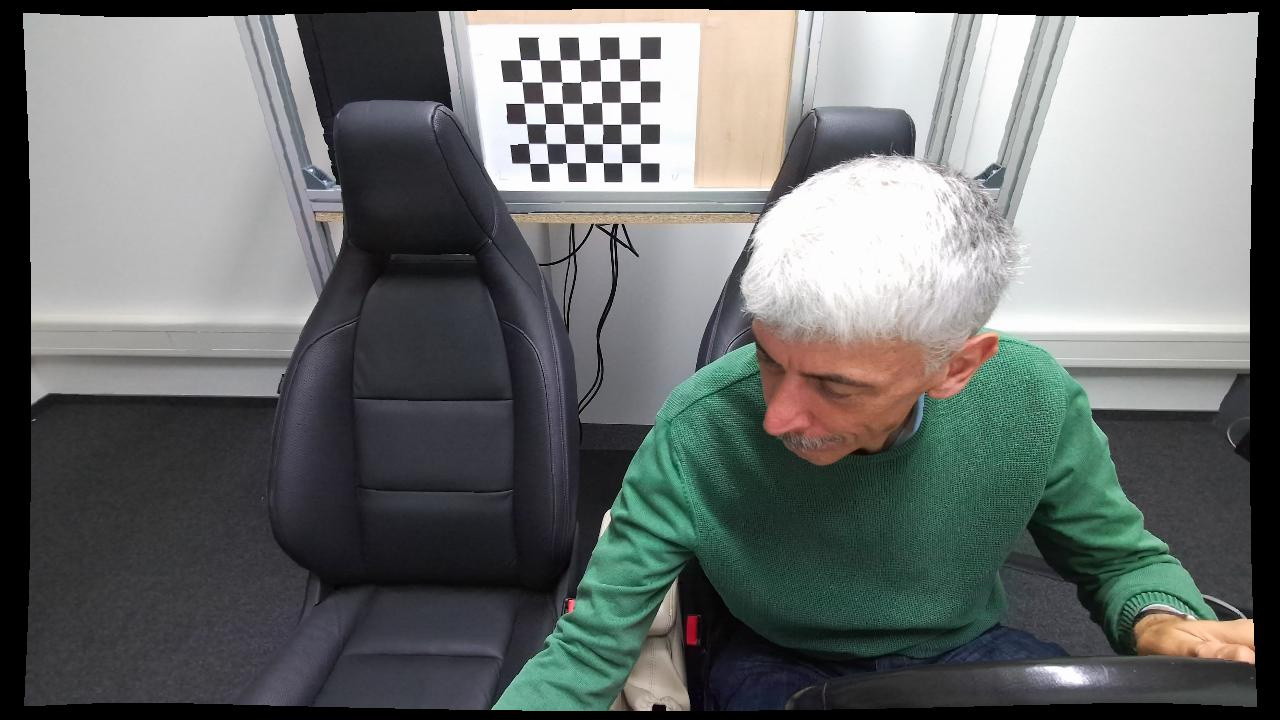Distracted: (492, 153, 1170, 708)
